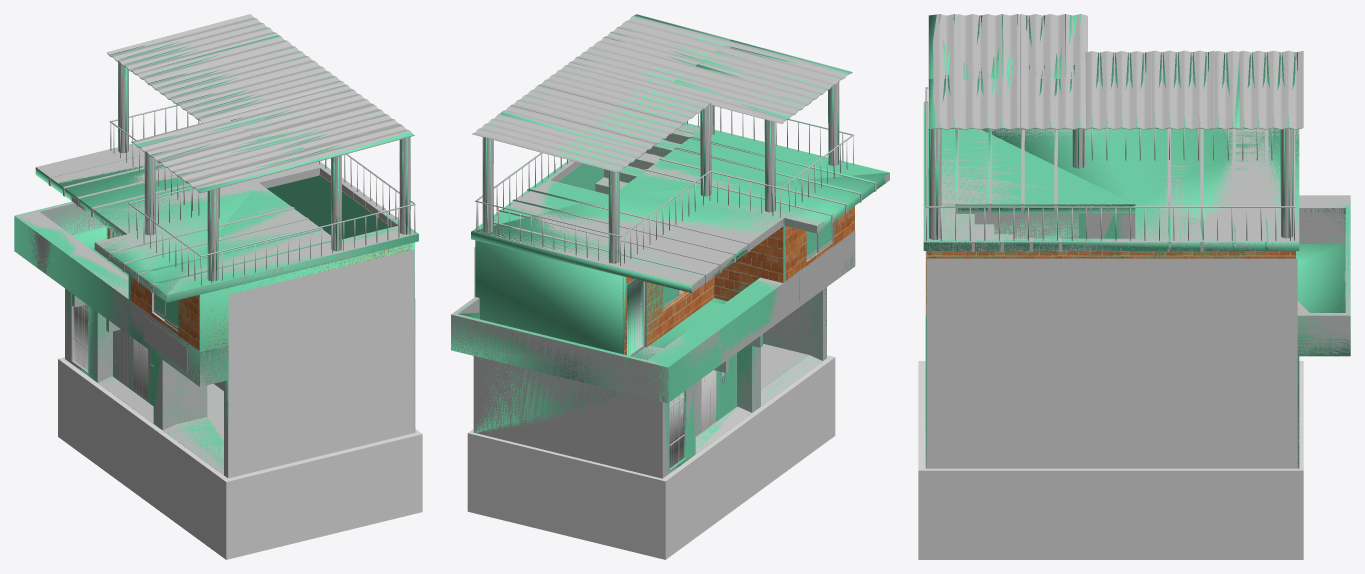
The model's file is CASA 1.fbx.
3 renders of one model, left to right at view 1: azimuth 30°, elevation 25°; view 2: azimuth 150°, elevation 25°; view 3: azimuth 270°, elevation 25°, orthographic. The views are drawn at different scales.
Visible parts, largest first — view 1: Casa1_LOD0, UTM_Casa1, OCC_Oclusion2, Cube_LOD0; view 2: Casa1_LOD0, UTM_Casa1, Cube_LOD0; view 3: OCC_Oclusion1, Casa1_LOD0, UTM_Casa1, Cube_LOD0.
Part boxes in pixels (left/top/right/bottom): Casa1_LOD0: left=15, top=14, right=416, bottom=478; UTM_Casa1: left=14, top=18, right=418, bottom=471; OCC_Oclusion2: left=228, top=249, right=414, bottom=477; Cube_LOD0: left=58, top=357, right=422, bottom=559; Casa1_LOD0: left=451, top=14, right=889, bottom=478; UTM_Casa1: left=451, top=14, right=889, bottom=473; Cube_LOD0: left=467, top=355, right=835, bottom=559; OCC_Oclusion1: left=927, top=258, right=1297, bottom=468; Casa1_LOD0: left=923, top=14, right=1350, bottom=468; UTM_Casa1: left=923, top=14, right=1350, bottom=468; Cube_LOD0: left=918, top=361, right=1303, bottom=559.
Size of what is drawn, in the model's own units: 754 by 1068 by 973.
